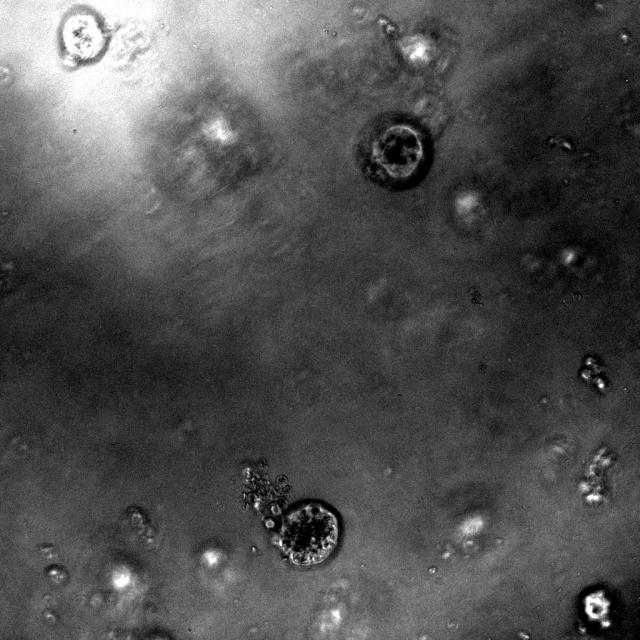organoid: (242, 461, 342, 568), (353, 112, 433, 190), (58, 4, 111, 67), (575, 582, 621, 636), (578, 445, 616, 506), (578, 356, 609, 393)
